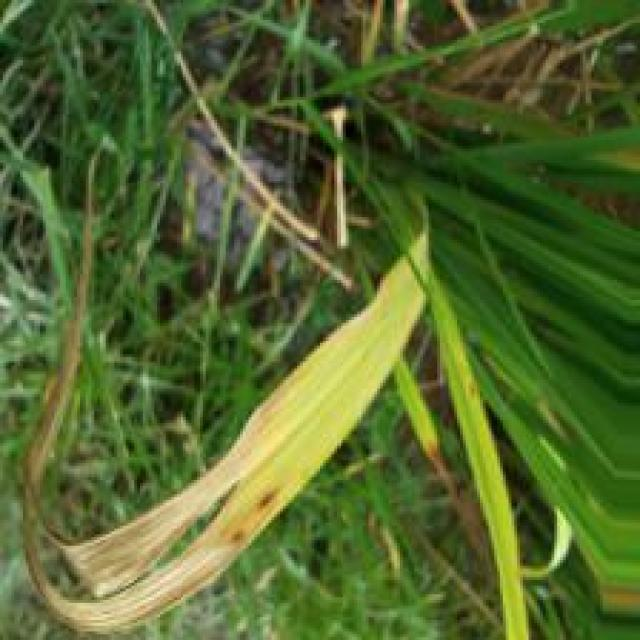Leaf_Scald: (66, 385, 280, 588), (26, 510, 257, 632)
